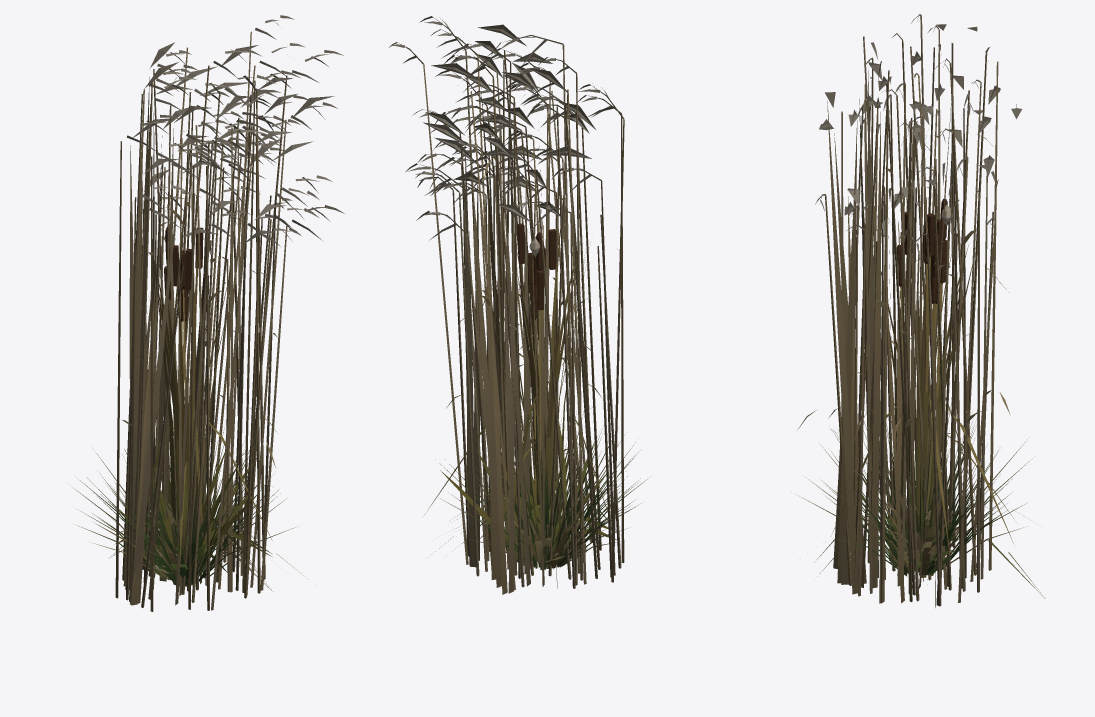
Rendered from bank-plants.glb.
The picture shows the model from 3 angles, left to right: view 1: azimuth 30°, elevation 25°; view 2: azimuth 150°, elevation 25°; view 3: azimuth 270°, elevation 25°; orthographic projection. The views are drawn at different scales.
Visible parts, largest first — view 1: Reed2, Reed1, Reed3, Reed2Far, Reed3Far, Reed1Far, Bulrush1Far, Rush1, Rush2, Bulrush1, Bulrush2Far, Bulrush2 (+3 smaller); view 2: Reed2, Reed1, Reed3, Reed1Far, Reed3Far, Reed2Far, Rush1, Bulrush1, Bulrush1Far, Rush2, Bulrush2Far, Bulrush2 (+3 smaller); view 3: Reed2, Reed3, Reed1, Reed2Far, Reed1Far, Reed3Far, Bulrush1, Bulrush1Far, Rush1, Rush2, Bulrush2Far, Bulrush2 (+3 smaller).
Boxes of the visible parts, x1,y1,x2,y2 form: Reed2: (115,15,332,611); Reed1: (121,43,337,610); Reed3: (122,48,344,599); Reed2Far: (129,77,297,604); Reed3Far: (123,66,334,605); Reed1Far: (123,42,286,605); Bulrush1Far: (154,227,230,585); Rush1: (74,429,280,583); Rush2: (79,437,297,583); Bulrush1: (134,204,272,583); Bulrush2Far: (147,238,198,586); Bulrush2: (148,228,204,557); Reed2: (389,42,624,582); Reed1: (412,29,617,590); Reed3: (419,16,601,588); Reed1Far: (425,53,567,593); Reed3Far: (423,24,591,587); Reed2Far: (465,41,596,594); Rush1: (440,405,640,569); Bulrush1: (425,213,611,569); Bulrush1Far: (481,223,586,567); Rush2: (435,407,650,569); Bulrush2Far: (517,220,579,566); Bulrush2: (492,221,578,567); Reed2: (829,33,1010,605); Reed3: (798,14,998,601); Reed1: (841,25,998,606); Reed2Far: (837,51,985,603); Reed1Far: (833,24,994,603); Reed3Far: (819,86,1021,607); Bulrush1: (832,174,1013,577); Bulrush1Far: (872,211,976,575); Rush1: (826,403,1032,570); Rush2: (796,421,1012,572); Bulrush2Far: (916,221,949,507); Bulrush2: (894,198,1013,518).
Bounding box in the file's own units: 1.47 × 3.08 × 1.49.
